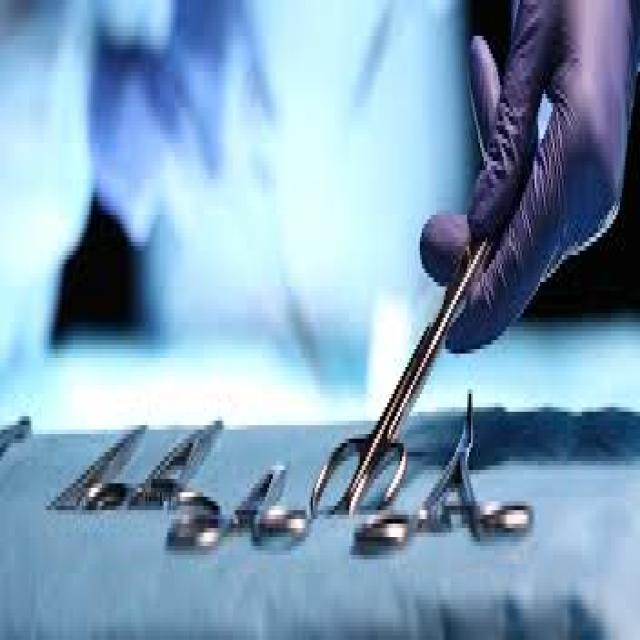tools_table: (18, 362, 587, 640)
